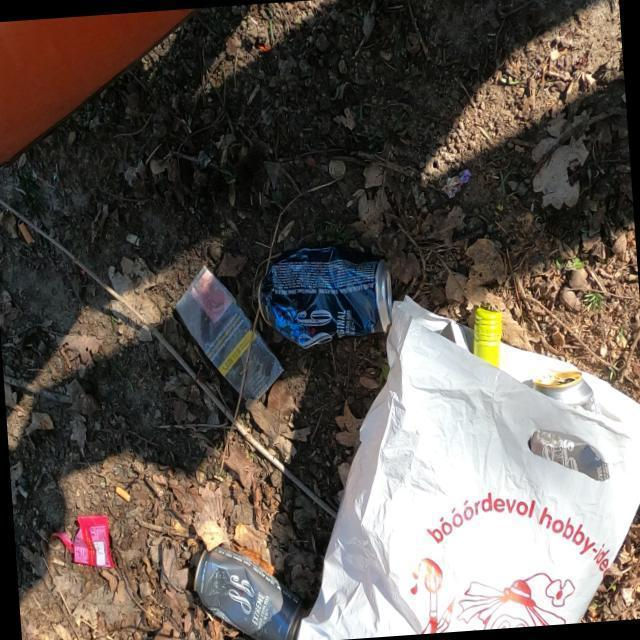Can-Metal: (257, 244, 393, 350), (192, 548, 312, 640), (532, 368, 610, 482)
Paper: (172, 264, 286, 401)
Plastic: (51, 513, 115, 569), (439, 168, 473, 199)
